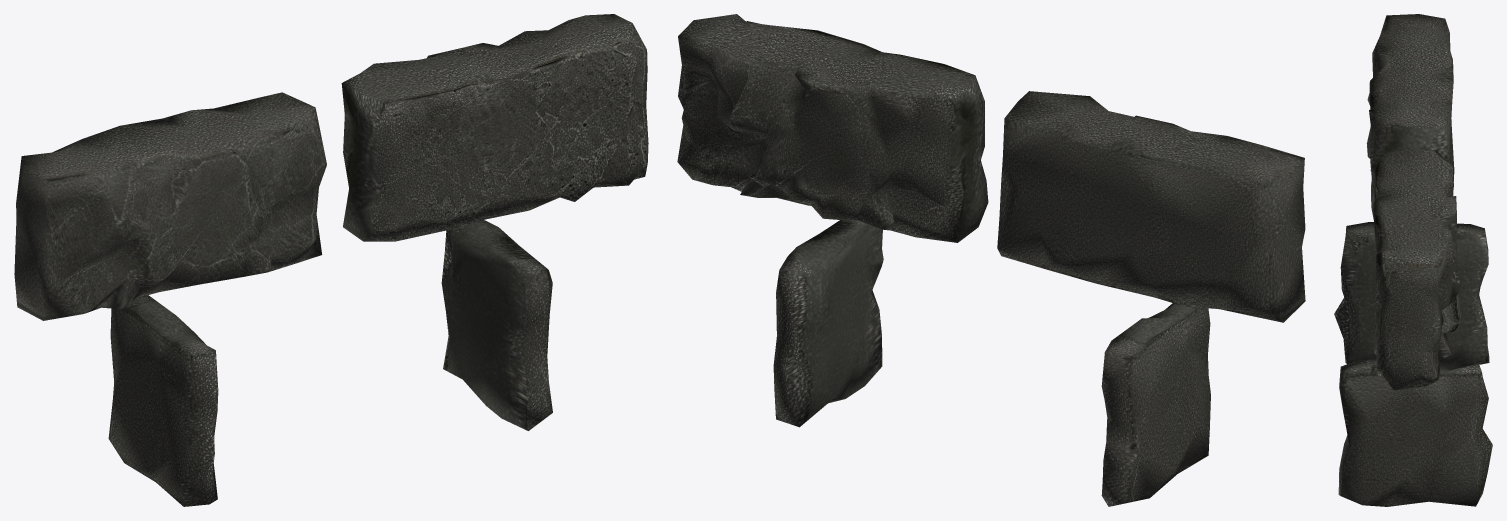
File: M7-Pared3.glb
The picture shows the model from 3 angles, left to right: view 1: azimuth 30°, elevation 25°; view 2: azimuth 150°, elevation 25°; view 3: azimuth 270°, elevation 25°; orthographic projection. The views are drawn at different scales.
Parts seen in each view (by area): view 1: tripo_node_bd5e6c06-3c0e-4486-ab5b-3f0ddd31cfcc; view 2: tripo_node_bd5e6c06-3c0e-4486-ab5b-3f0ddd31cfcc; view 3: tripo_node_bd5e6c06-3c0e-4486-ab5b-3f0ddd31cfcc.
Part boxes in pixels (bbox=[...]): tripo_node_bd5e6c06-3c0e-4486-ab5b-3f0ddd31cfcc: bbox=[14, 14, 648, 506]; tripo_node_bd5e6c06-3c0e-4486-ab5b-3f0ddd31cfcc: bbox=[677, 14, 1305, 506]; tripo_node_bd5e6c06-3c0e-4486-ab5b-3f0ddd31cfcc: bbox=[1334, 14, 1492, 506].
Size of the model in its own units: 0.9743 by 0.533 by 0.256.
1 material, 1 textured.
